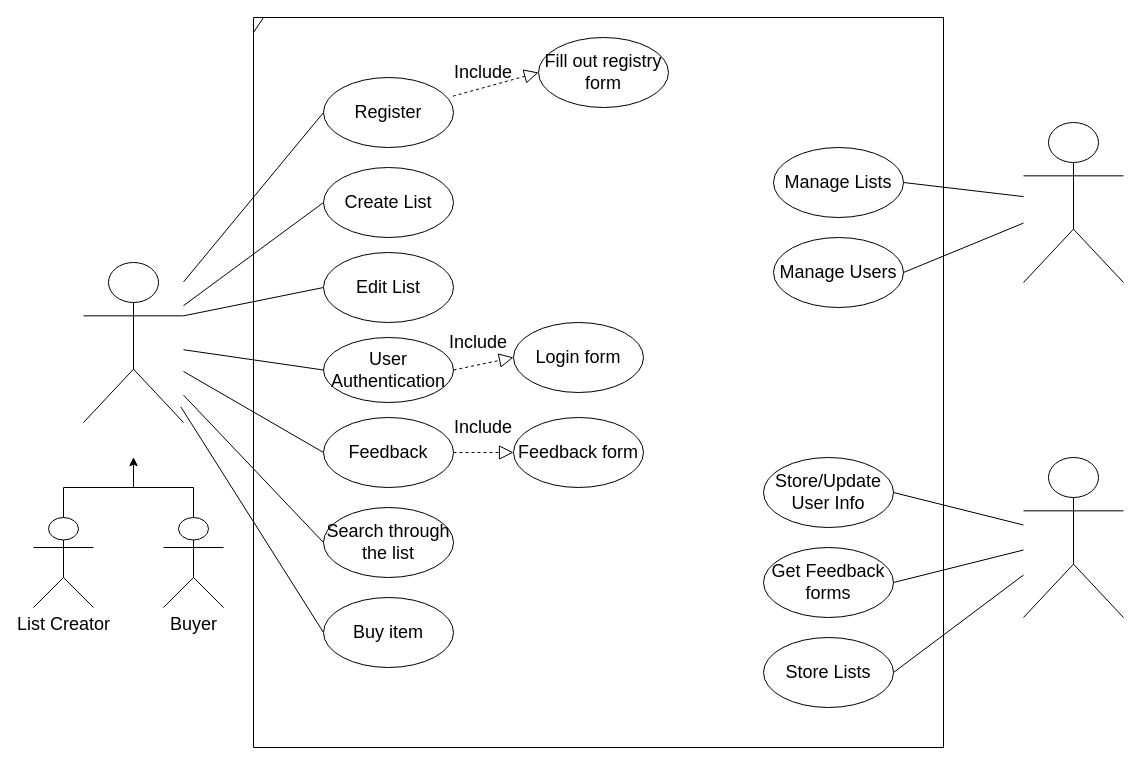
This 1141x765 diagram has some shape labels left out. The shapes that lost their labels are listed below. From the top down, each one's box as (x1, y1, x2, y2) in pixels, then its label:
(1022, 122, 1124, 282): Admin
(82, 262, 184, 422): User
(1022, 456, 1124, 618): Database
